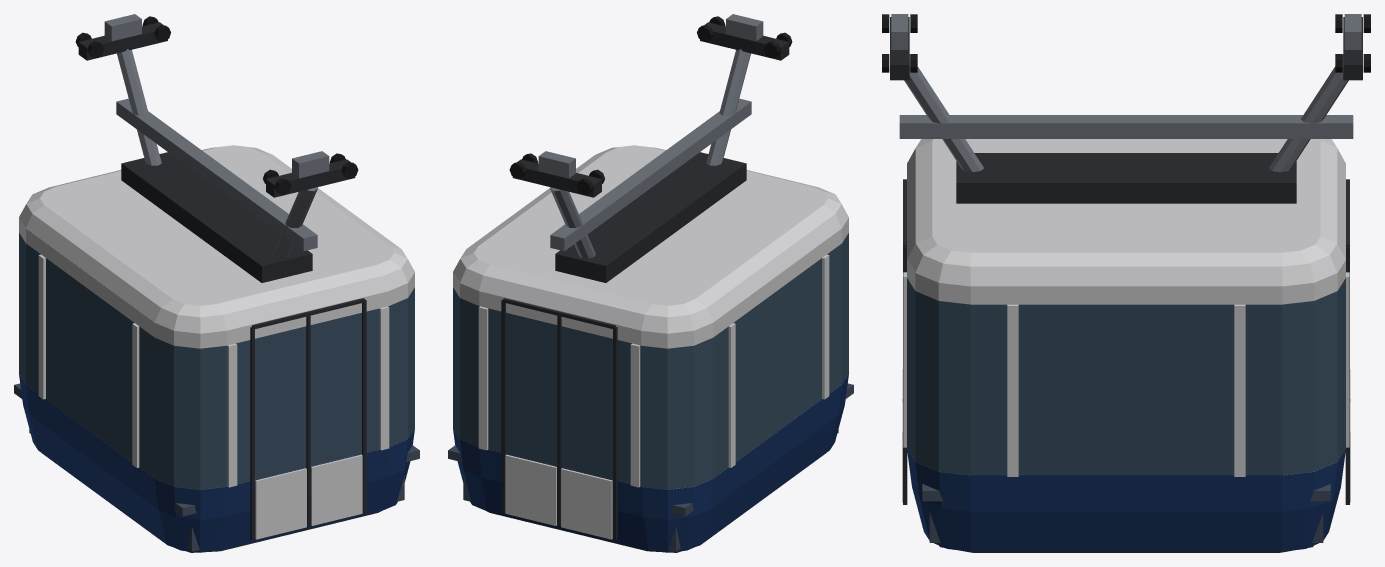
File: funitel_cabin.obj
3 renders of one model, left to right at view 1: azimuth 30°, elevation 25°; view 2: azimuth 150°, elevation 25°; view 3: azimuth 270°, elevation 25°, orthographic. The views are drawn at different scales.
Size of the model in its own units: 2.55 by 3.61 by 3.45.
